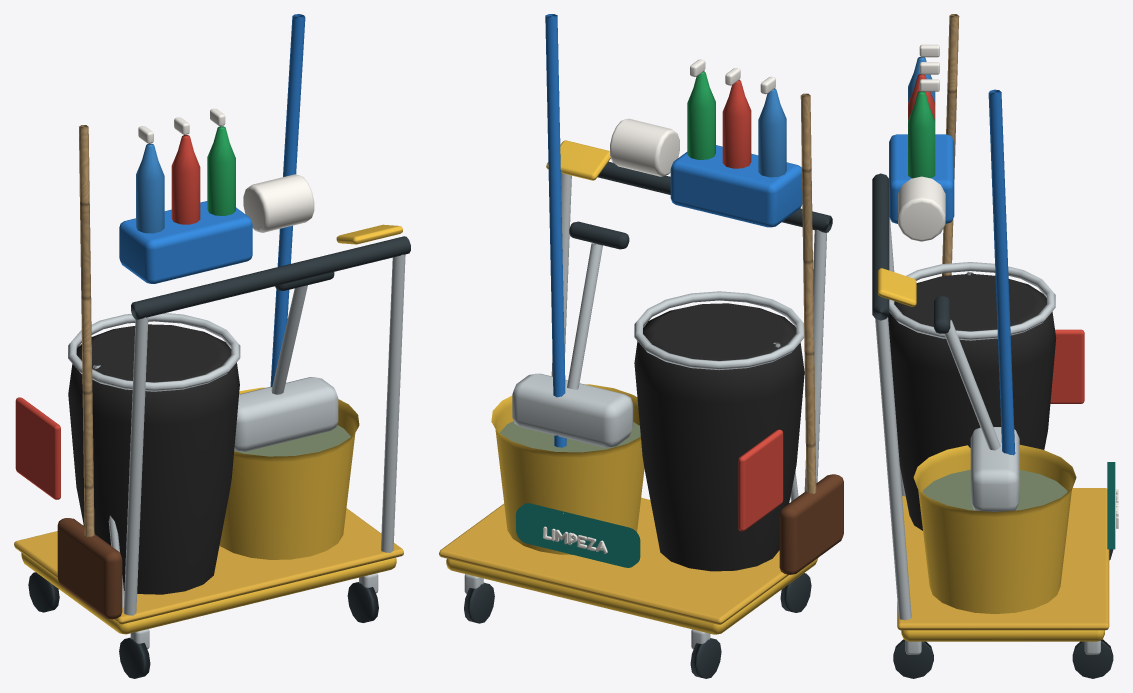
File: staff-cart.fbx
The picture shows the model from 3 angles, left to right: view 1: azimuth 30°, elevation 25°; view 2: azimuth 150°, elevation 25°; view 3: azimuth 270°, elevation 25°; orthographic projection.
Visible parts, largest first — view 1: Body; view 2: Body; view 3: Body.
Boxes of the visible parts, <box> form: Body: <box>14,14,410,678</box>; Body: <box>439,14,843,678</box>; Body: <box>872,14,1118,678</box>.
Size of the model in its own units: 0.845 by 1.55 by 0.6039.
